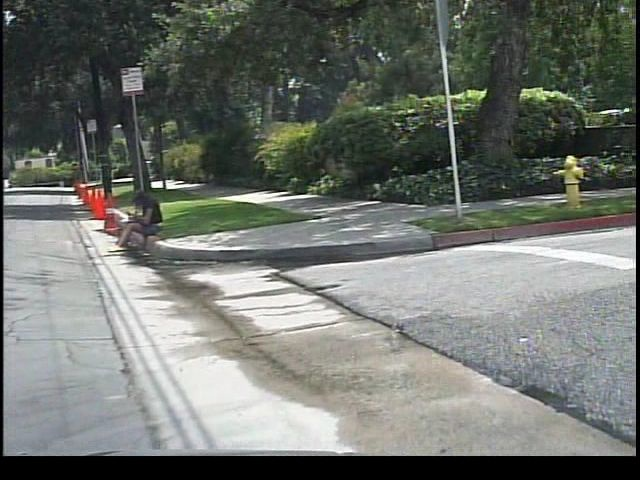person: (112, 187, 172, 253)
